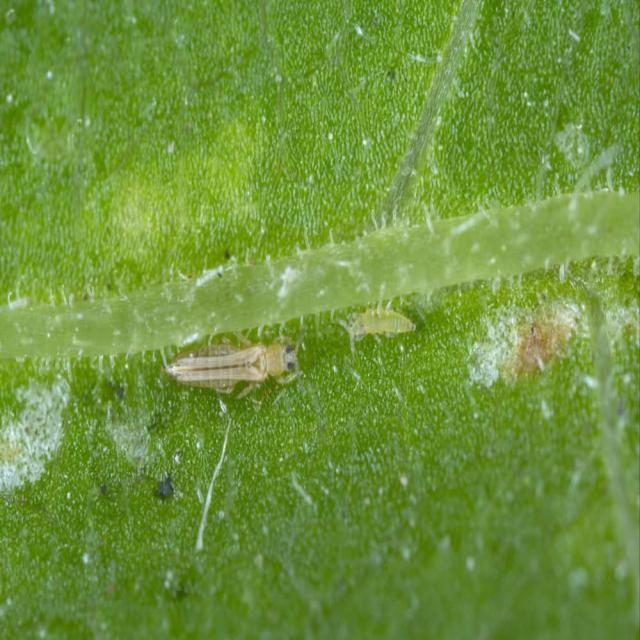Thrip-Adult-: (157, 322, 320, 402)
Thrip-Larva-: (334, 292, 424, 353)
